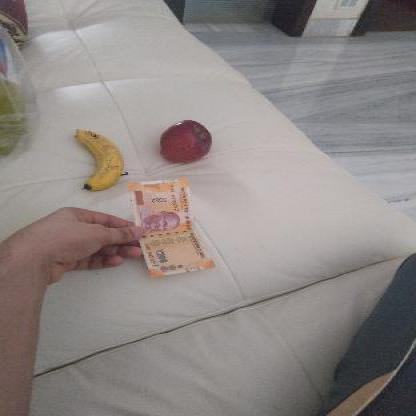New200Front: (132, 182, 214, 274)
